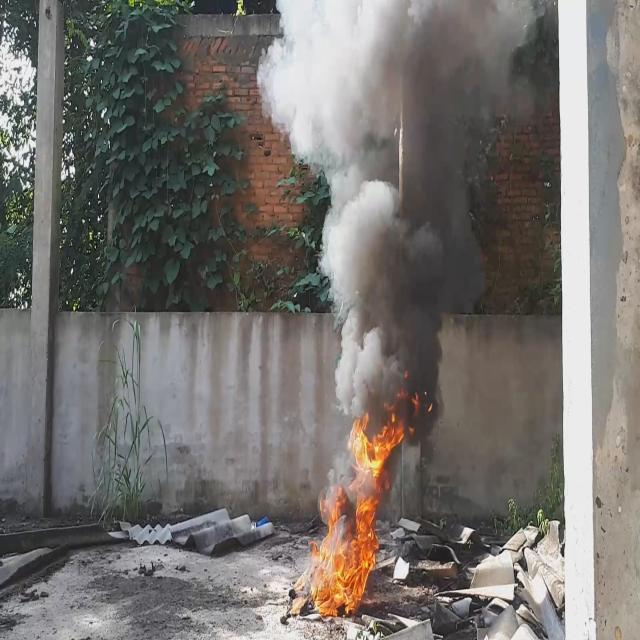Fire: (314, 407, 409, 616)
Smoke: (253, 0, 489, 422)
